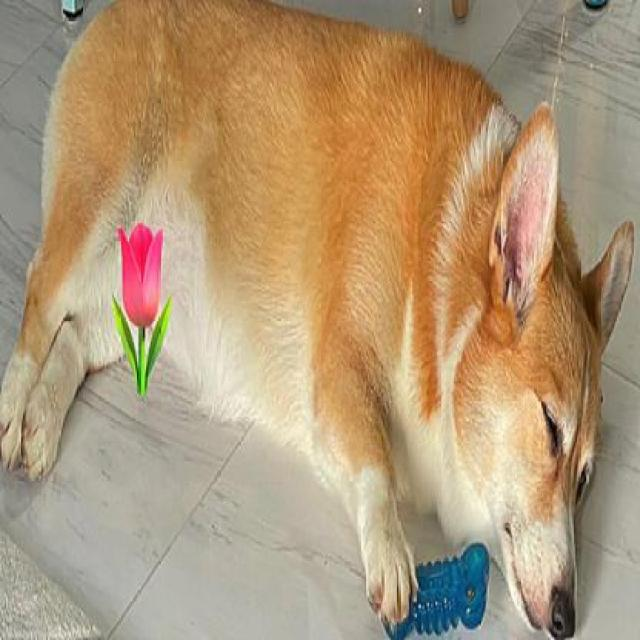Dog: (4, 0, 638, 638)
